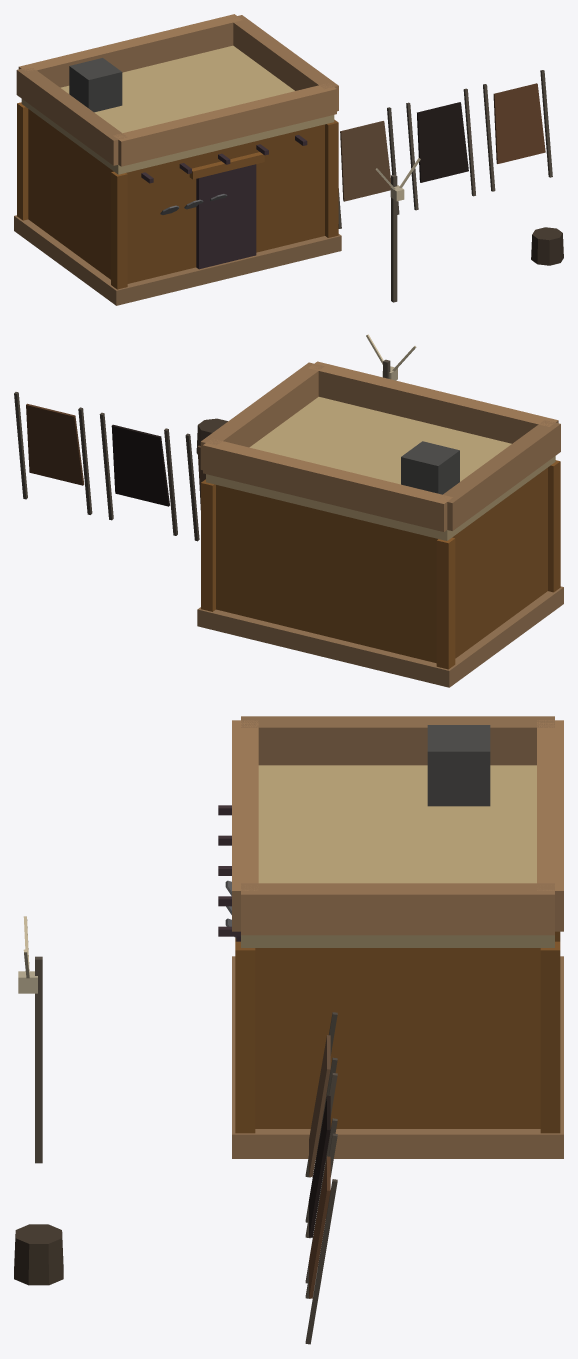
The model's file is walk_hive_trapper.glb.
3 renders of one model, top to bottom at view 1: azimuth 30°, elevation 25°; view 2: azimuth 150°, elevation 25°; view 3: azimuth 270°, elevation 25°, orthographic. The views are drawn at different scales.
Visible parts, largest first — view 1: walk_hive_trapper, walk_hive_trapper_roof; view 2: walk_hive_trapper, walk_hive_trapper_roof; view 3: walk_hive_trapper, walk_hive_trapper_roof.
Boxes of the visible parts, bbox=[...] form: walk_hive_trapper: bbox=[14, 70, 563, 305]; walk_hive_trapper_roof: bbox=[16, 14, 338, 174]; walk_hive_trapper: bbox=[14, 334, 563, 687]; walk_hive_trapper_roof: bbox=[200, 361, 560, 540]; walk_hive_trapper: bbox=[14, 805, 563, 1344]; walk_hive_trapper_roof: bbox=[232, 716, 563, 947].
Size of what is drawn, in the model's own units: 9.58 by 3.56 by 6.13.
2 materials, 2 textured.
